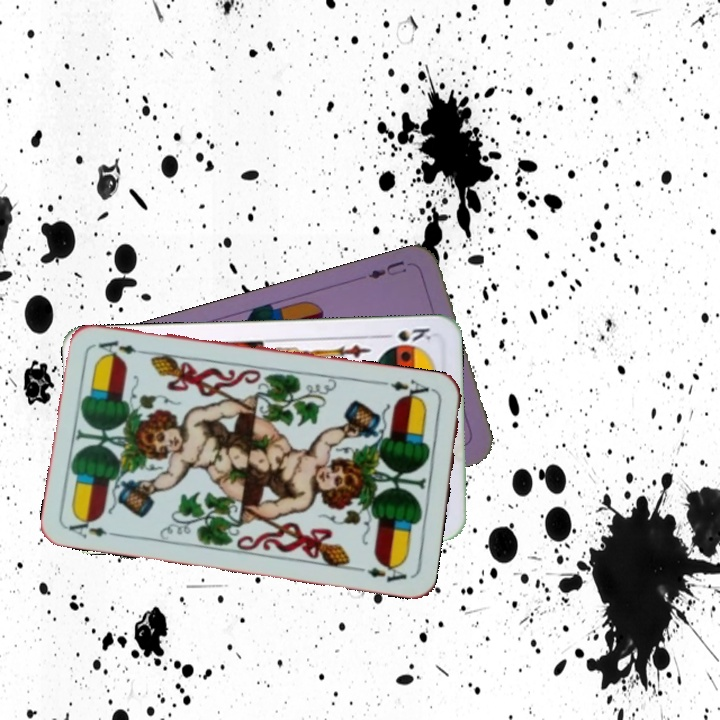EA: (65, 513, 123, 542), (387, 375, 438, 404)
EU: (364, 256, 409, 282)
SK: (376, 324, 434, 344)
